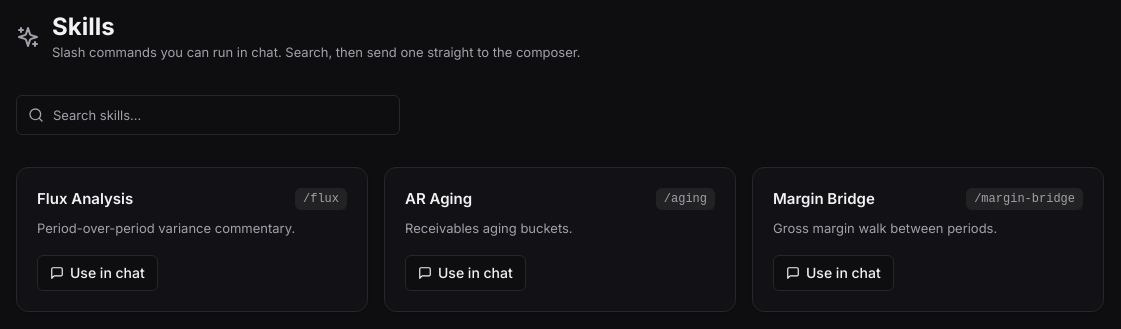
Skills page › filters by description substring
Type "receivables" into the field with placeholder "Search skills...". click: (208,114)
box: [16,94,400,134]
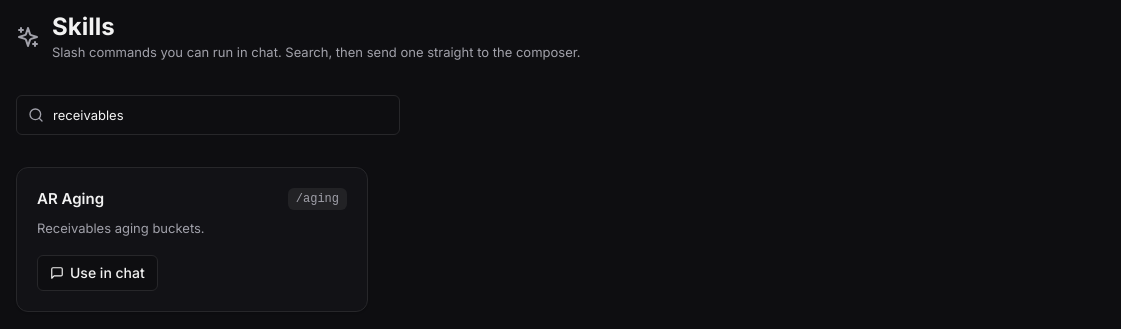
Expected: the heading "AR Aging" is shown, [37,188,104,210]
Expected: the heading "Flux Analysis" is gone
